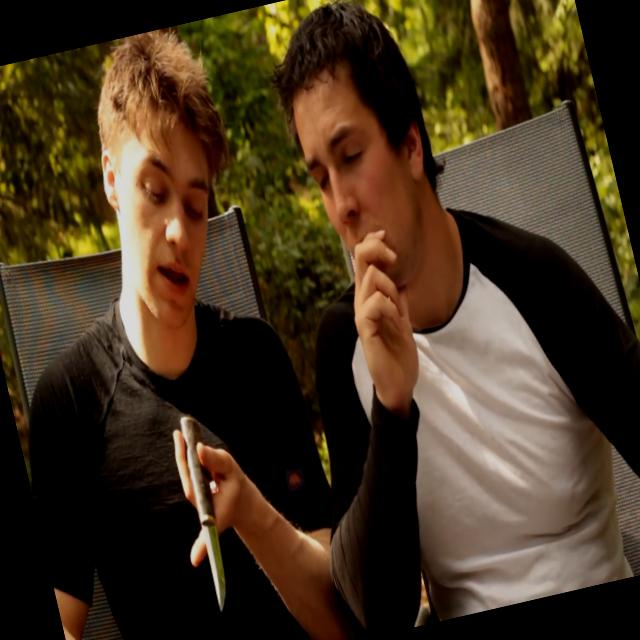knife: (144, 395, 264, 628)
